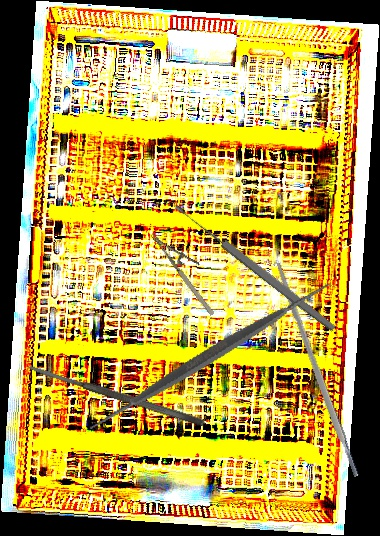Needle Holder: (150, 221, 228, 318)
Scalpel Handle: (272, 261, 361, 479)
Spatula Surgical: (74, 220, 346, 493), (26, 361, 206, 429)
Surgical Spoon: (172, 200, 338, 335)
